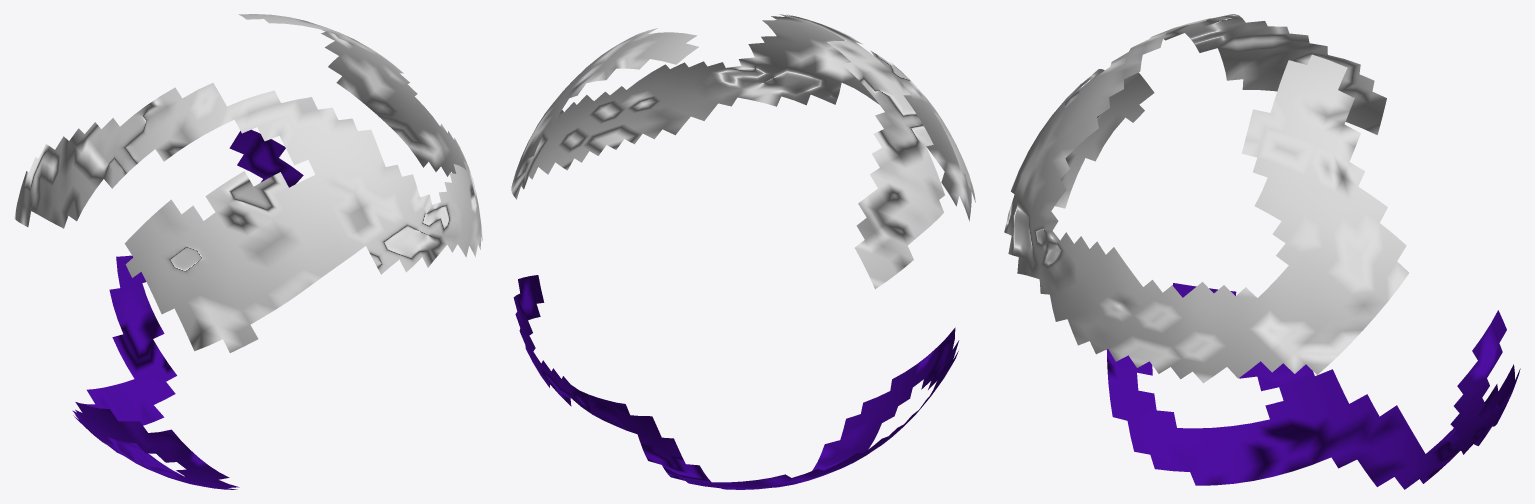
The model's file is water_separate.fbx.
The picture shows the model from 3 angles, left to right: view 1: azimuth 30°, elevation 25°; view 2: azimuth 150°, elevation 25°; view 3: azimuth 270°, elevation 25°; orthographic projection. The views are drawn at different scales.
Visible parts, largest first — view 1: polySurface181; view 2: polySurface181; view 3: polySurface181.
Part boxes in pixels (bbox=[...]): polySurface181: bbox=[14, 14, 482, 489]; polySurface181: bbox=[511, 14, 975, 489]; polySurface181: bbox=[1004, 14, 1520, 489].
Size of the model in its own units: 65.09 by 65.13 by 63.97.
